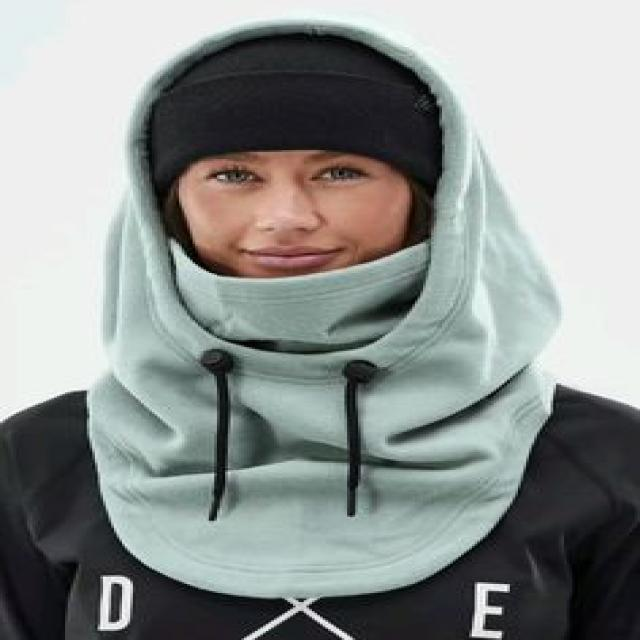4_capucha: (87, 16, 558, 438)
